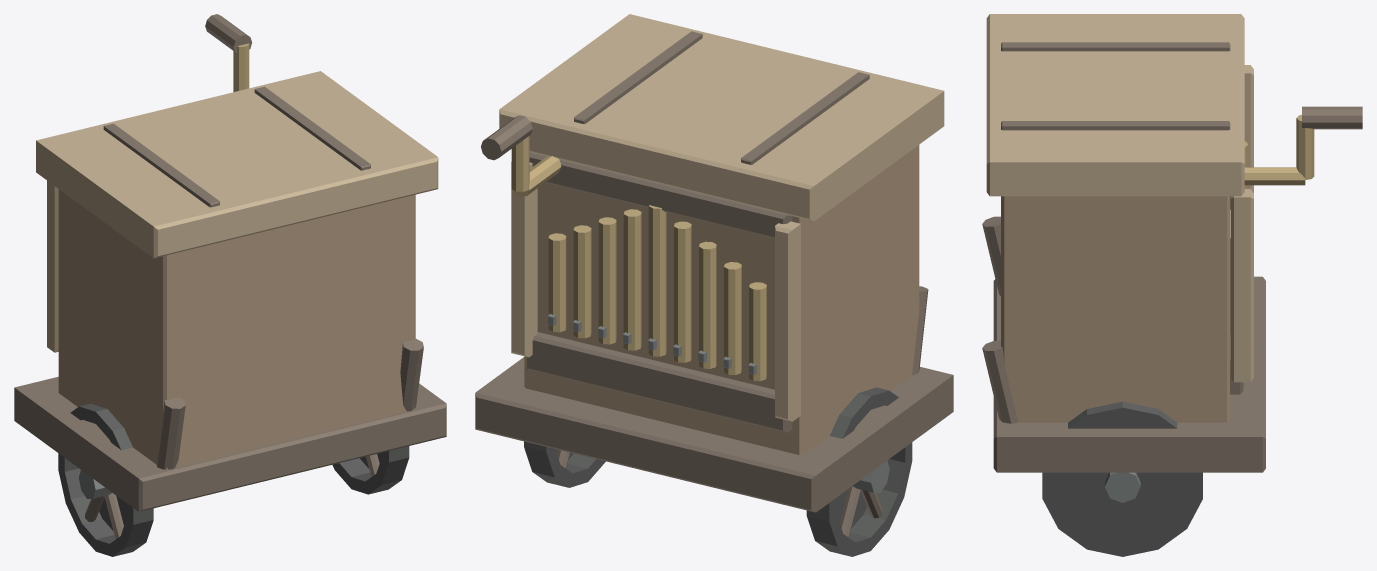
Rendered from Organ.fbx.
3 views of the same model, side by side, from view 1: azimuth 30°, elevation 25°; view 2: azimuth 150°, elevation 25°; view 3: azimuth 270°, elevation 25° (orthographic). The views are drawn at different scales.
Parts seen in each view (by area): view 1: Body__Timber.004, Body__TimberLight.004, Body__TimberDark.004, Body__Rubber, CrankPivot__TimberDark, CrankPivot__Brass, Body__Steel.002; view 2: Body__TimberLight.004, Body__TimberDark.004, Body__Timber.004, Body__Brass, Body__Rubber, CrankPivot__Brass, Body__Steel.002, CrankPivot__TimberDark; view 3: Body__Timber.004, Body__TimberLight.004, Body__TimberDark.004, Body__Rubber, CrankPivot__Brass, CrankPivot__TimberDark, Body__Steel.002.
Part boxes in pixels (x1,y1,x2,y2): Body__Timber.004: (58, 189, 415, 469); Body__TimberLight.004: (36, 71, 438, 352); Body__TimberDark.004: (14, 86, 446, 539); Body__Rubber: (58, 403, 409, 556); CrankPivot__TimberDark: (205, 14, 252, 52); CrankPivot__Brass: (233, 43, 249, 92); Body__Steel.002: (79, 470, 112, 498); Body__TimberLight.004: (499, 14, 944, 421); Body__TimberDark.004: (475, 31, 953, 537); Body__Timber.004: (524, 145, 919, 454); Body__Brass: (548, 205, 766, 381); Body__Rubber: (524, 387, 912, 556); CrankPivot__Brass: (511, 136, 561, 196); Body__Steel.002: (548, 314, 889, 492); CrankPivot__TimberDark: (481, 115, 532, 160); Body__Timber.004: (1001, 196, 1230, 422); Body__TimberLight.004: (986, 14, 1253, 382); Body__TimberDark.004: (982, 42, 1265, 472); Body__Rubber: (1042, 401, 1202, 556); CrankPivot__Brass: (1244, 115, 1314, 185); CrankPivot__TimberDark: (1302, 106, 1362, 129); Body__Steel.002: (1105, 472, 1140, 502).
Bounding box in the file's own units: 1.06 × 1.31 × 1.06.
